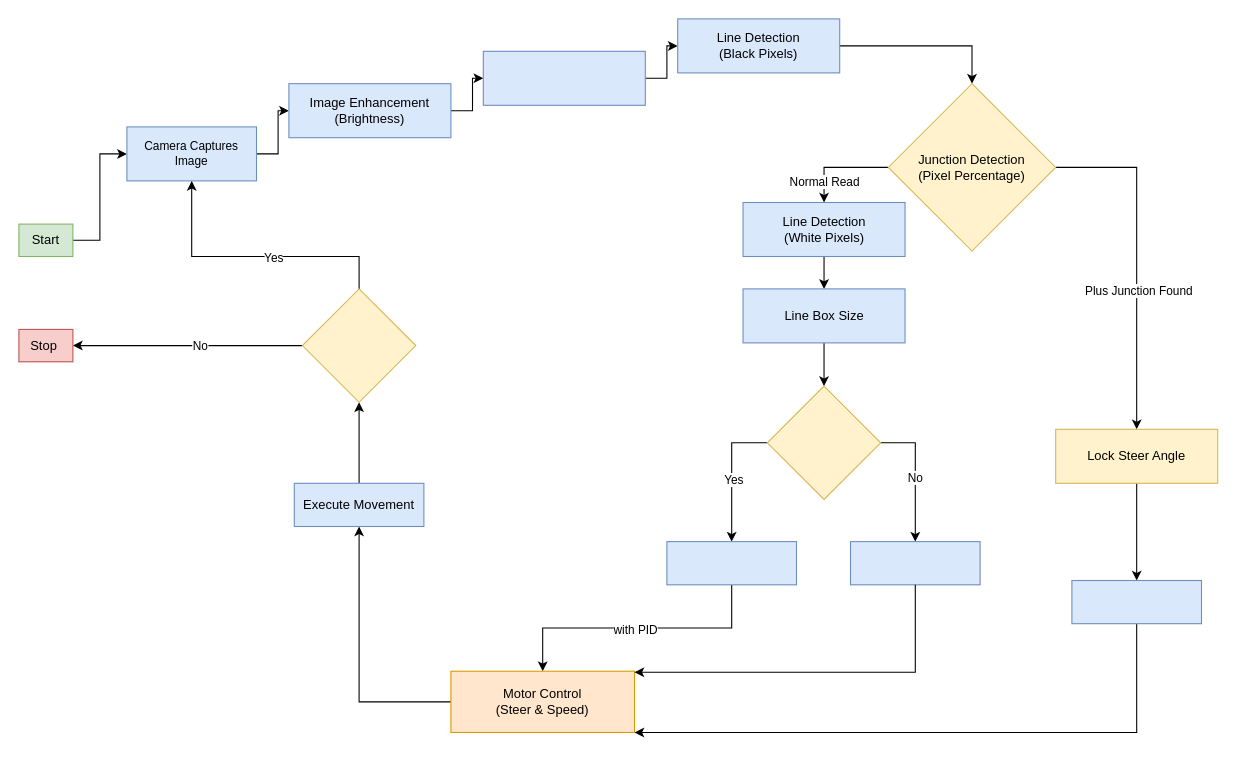
This 1237x760 diagram has some shape labels left out. The centre of each missing label's shape, as x and y in pixels:
"Calculate Steering" belongs at point 731,563.
"Continue Straight Strategy" belongs at point 1136,601.
"Continue?" belongs at point 358,345.
"Line Found?" belongs at point 823,442.
"Memory Mode" belongs at point 914,563.
"Region of Interest" belongs at point 563,77.
